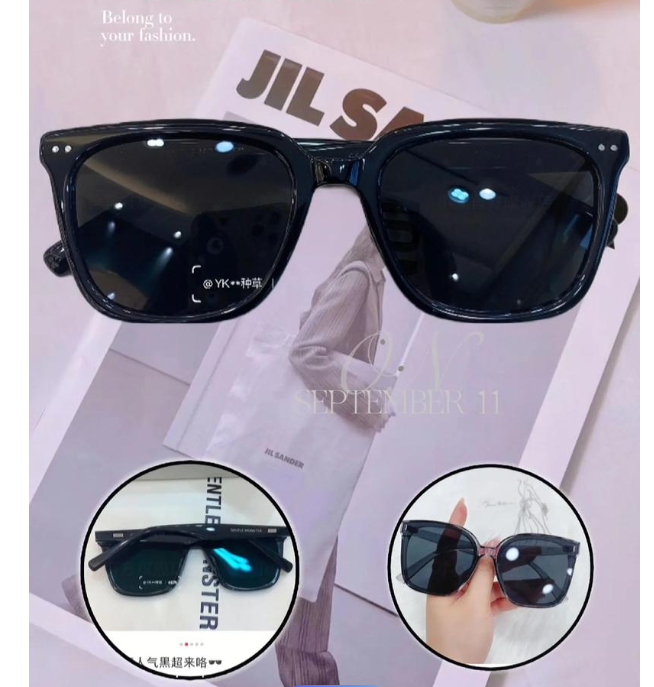glass: (30, 120, 630, 324), (398, 513, 588, 613), (85, 520, 309, 600)
